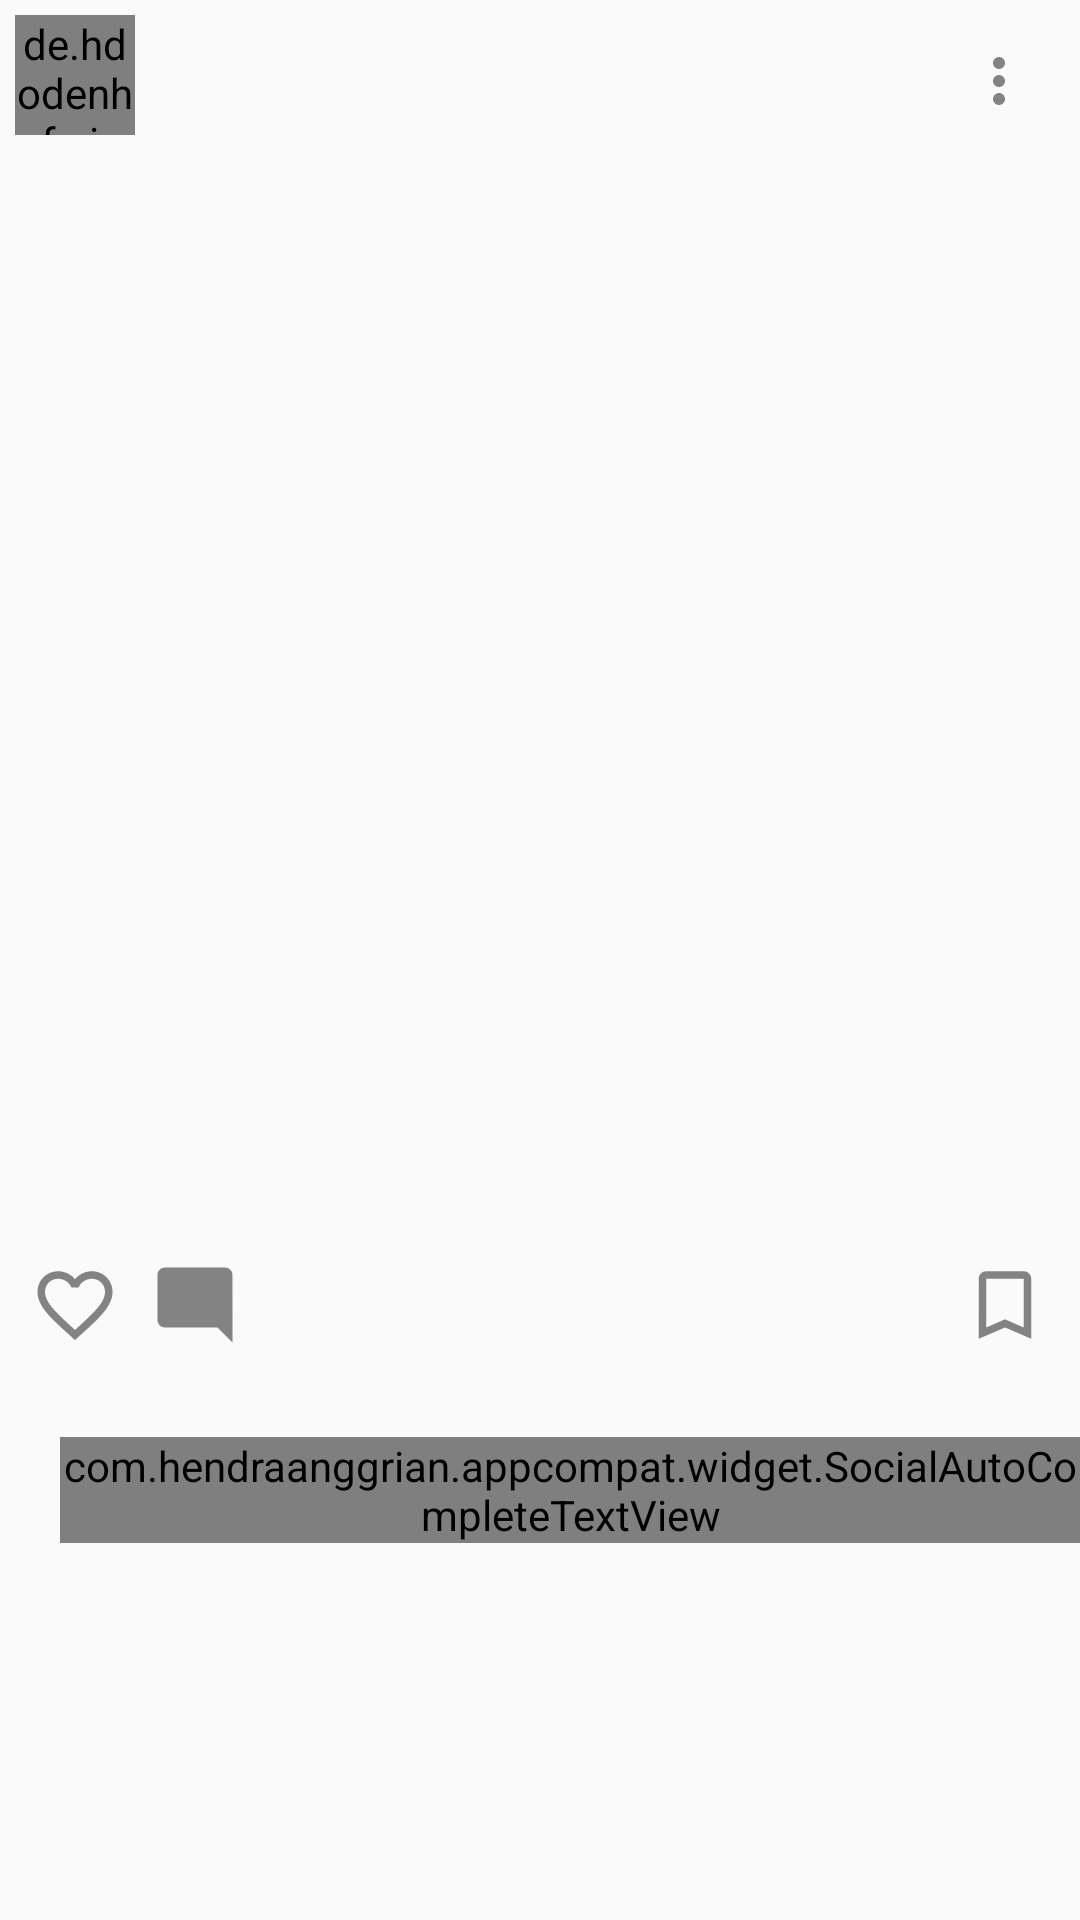

Icons on this 1080 x 1920 Android screen, each with its box as (x1, y1, x2, y2):
comment: (157, 1267, 233, 1342)
like: (37, 1271, 113, 1340)
more: (993, 57, 1005, 105)
save: (978, 1271, 1032, 1339)
